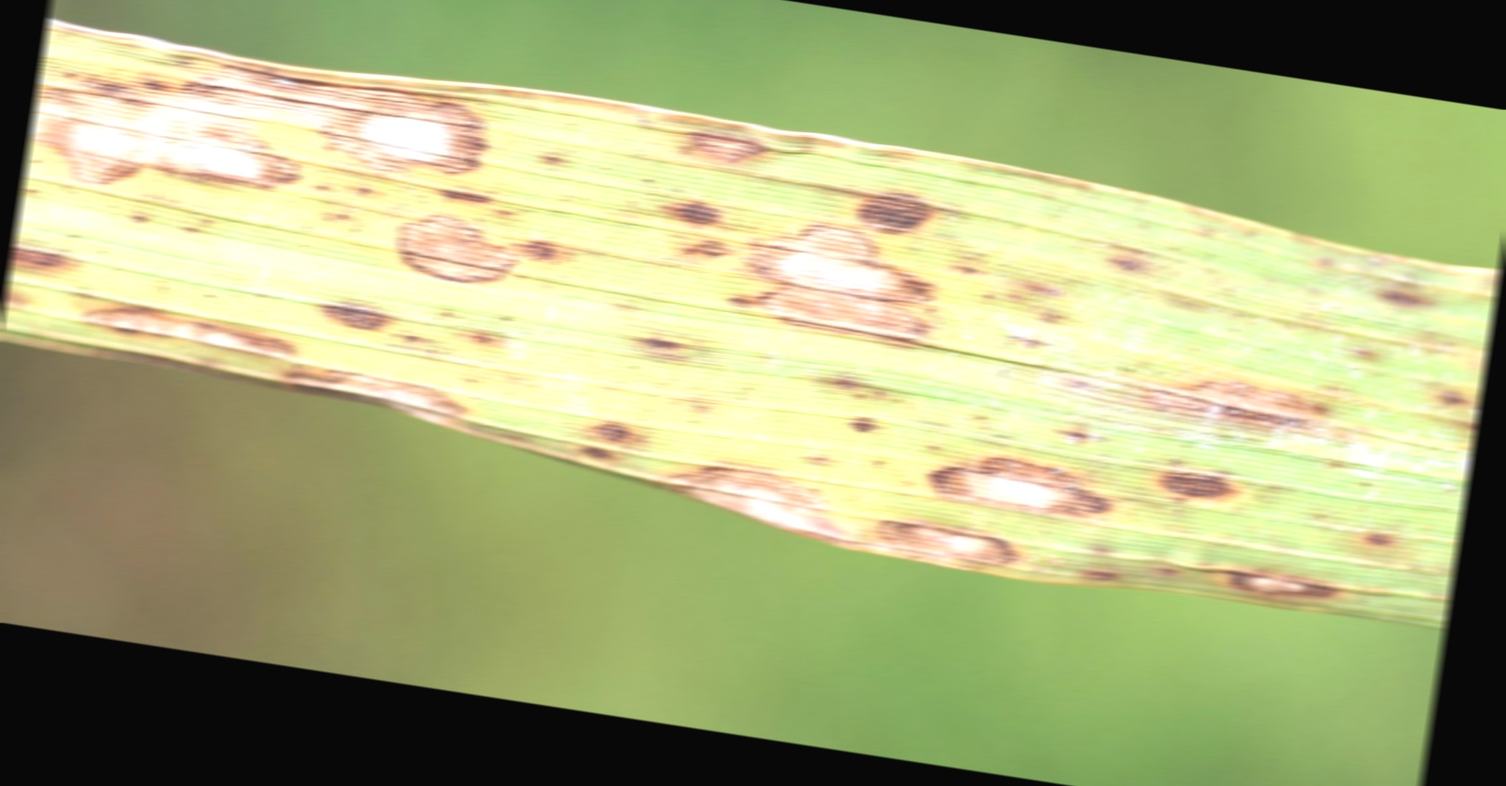Bacterial_Leaf_Blight: (685, 218, 947, 355), (27, 95, 336, 199), (316, 63, 513, 173), (901, 427, 1135, 519), (1036, 356, 1358, 422), (49, 272, 309, 352), (347, 210, 588, 291), (651, 453, 880, 538), (1068, 546, 1349, 608), (0, 214, 87, 366), (293, 358, 487, 424), (1142, 430, 1284, 511), (295, 265, 439, 333), (834, 170, 956, 244), (665, 125, 792, 169), (566, 405, 636, 477), (1363, 276, 1452, 329)
